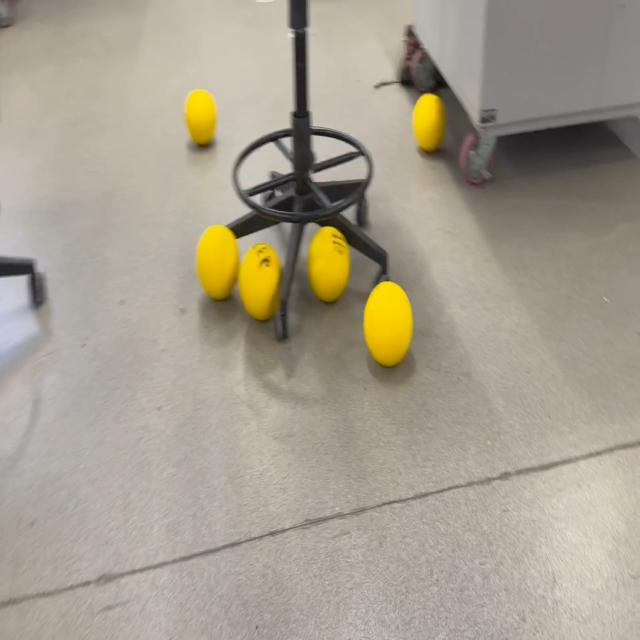Fuel: (363, 280, 414, 368), (238, 243, 285, 321), (196, 225, 241, 300), (307, 226, 351, 302), (412, 93, 447, 153), (185, 89, 218, 146)
